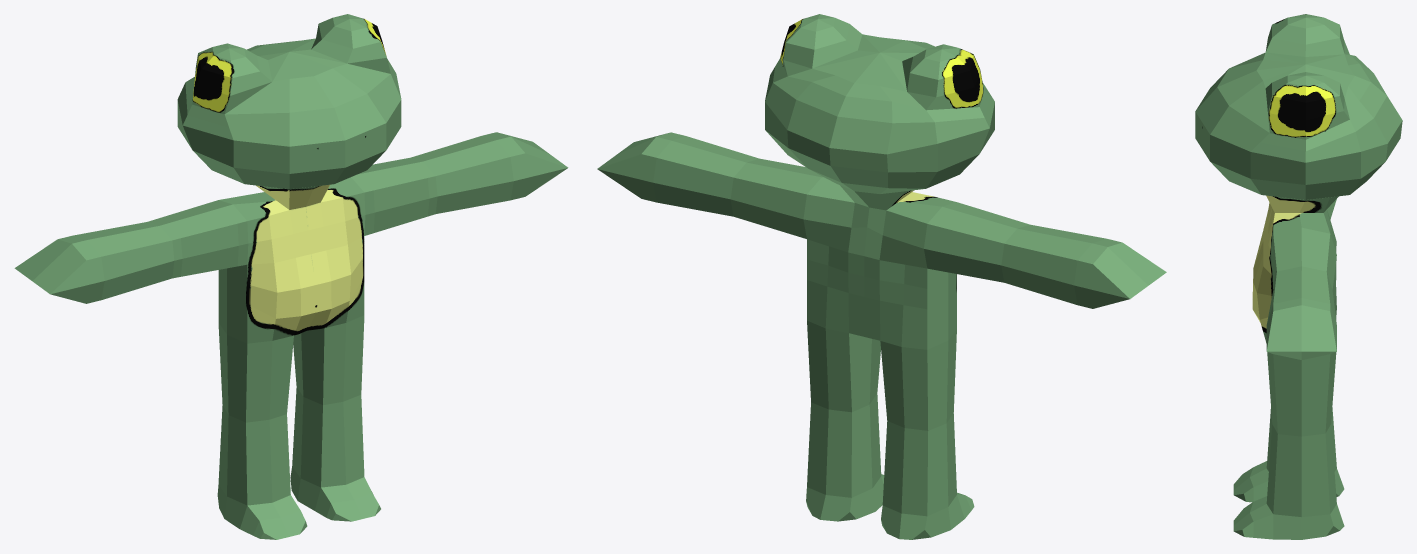
Rendered from frog_player.fbx.
3 renders of one model, left to right at view 1: azimuth 30°, elevation 25°; view 2: azimuth 150°, elevation 25°; view 3: azimuth 270°, elevation 25°, orthographic. The views are drawn at different scales.
Visible parts, largest first — view 1: Cube; view 2: Cube; view 3: Cube.
Part boxes in pixels (x1=…): Cube: x1=14, y1=14, x2=568, y2=539; Cube: x1=597, y1=14, x2=1166, y2=539; Cube: x1=1195, y1=14, x2=1402, y2=539.
Bounding box in the file's own units: 885 × 763 × 311.
1 material, 1 textured.
